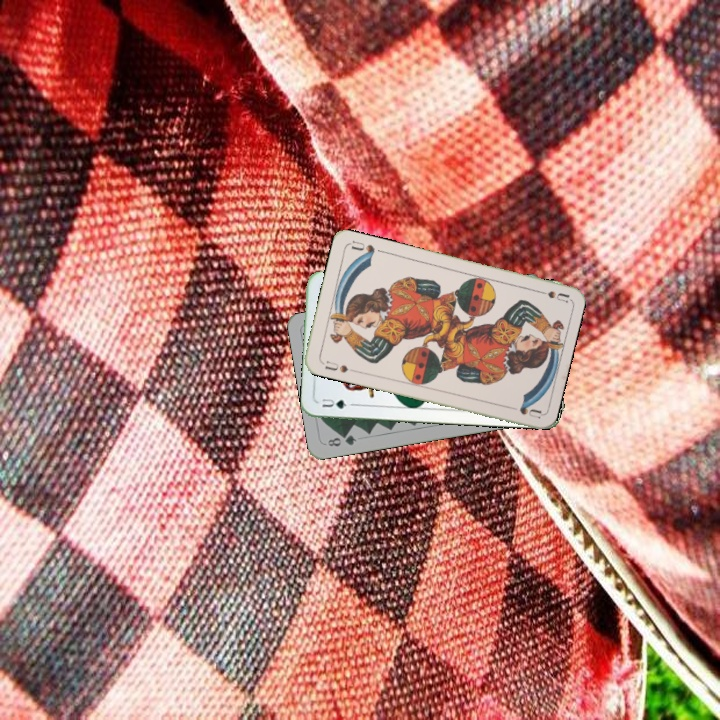G8: (324, 430, 359, 449)
GU: (318, 395, 356, 411)
SU: (530, 285, 570, 305), (317, 357, 358, 376)
